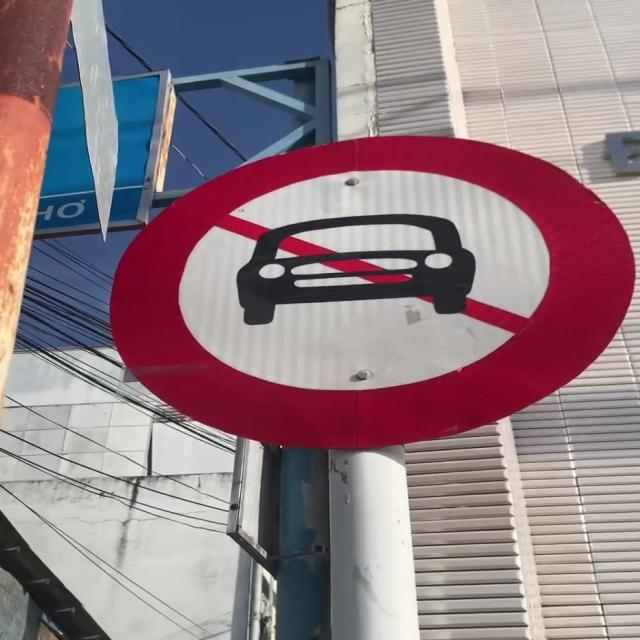Cam_O_To: (106, 128, 636, 456)
